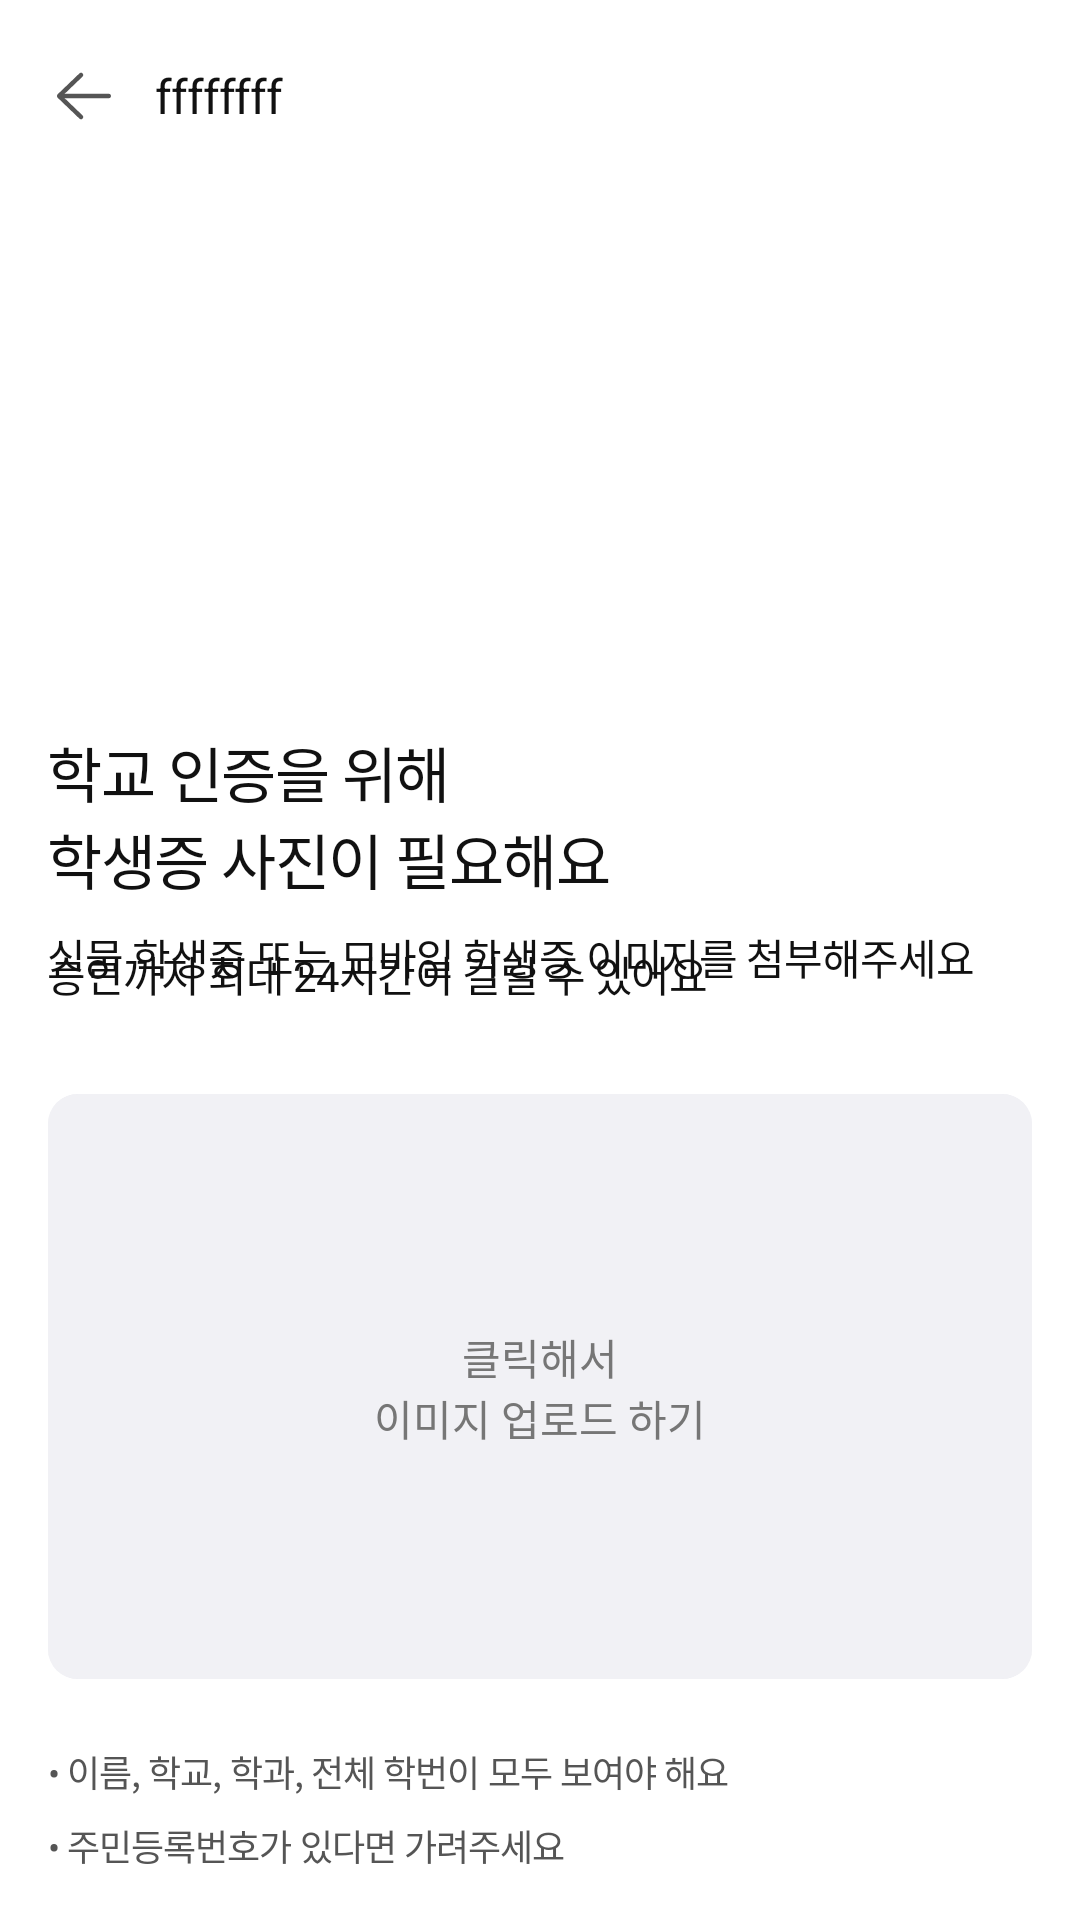

Screen size 1080px×1920px. Icon name, then its center in pixels as (x=x, y=y):
back: (x=84, y=96)
